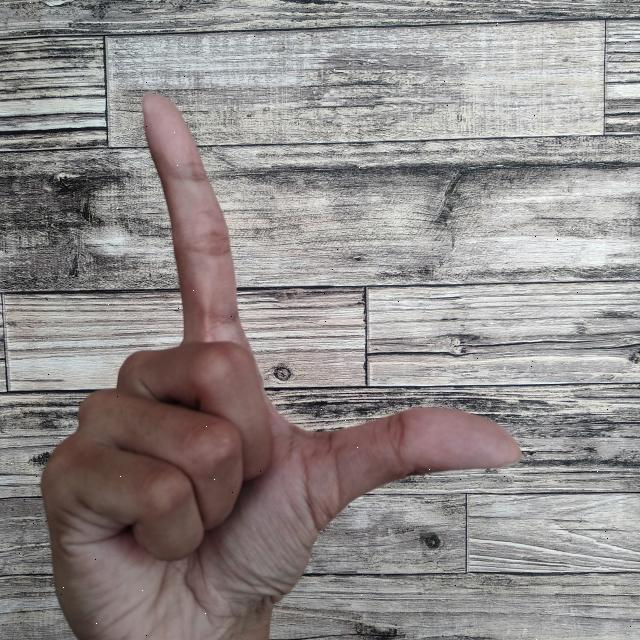L: (34, 83, 529, 640)
